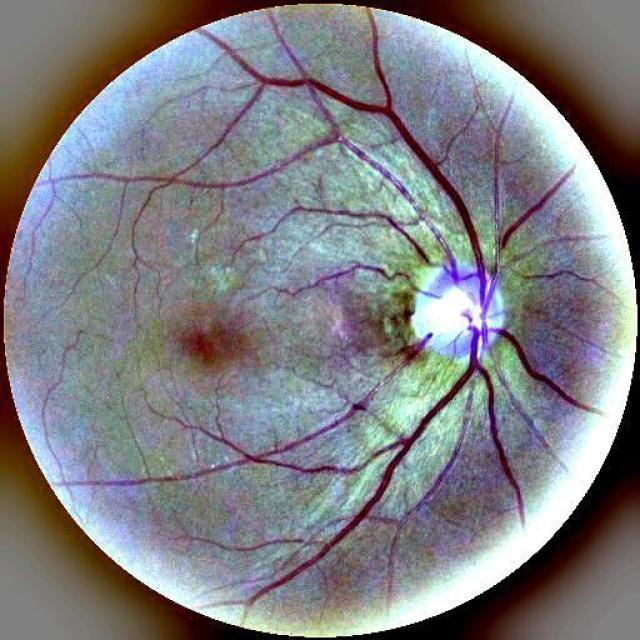Macula: (179, 321, 246, 365)
Nerves: (32, 8, 600, 600), (274, 260, 409, 298), (526, 266, 598, 284)
Optic Disk: (410, 264, 504, 358)
